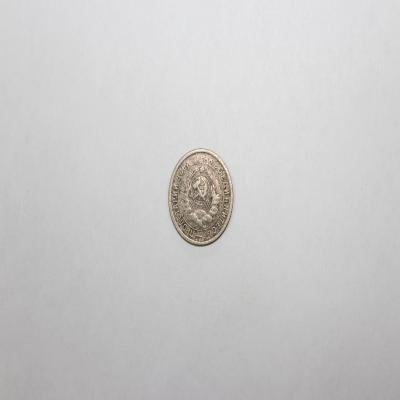numismatics: (169, 149, 233, 245)
